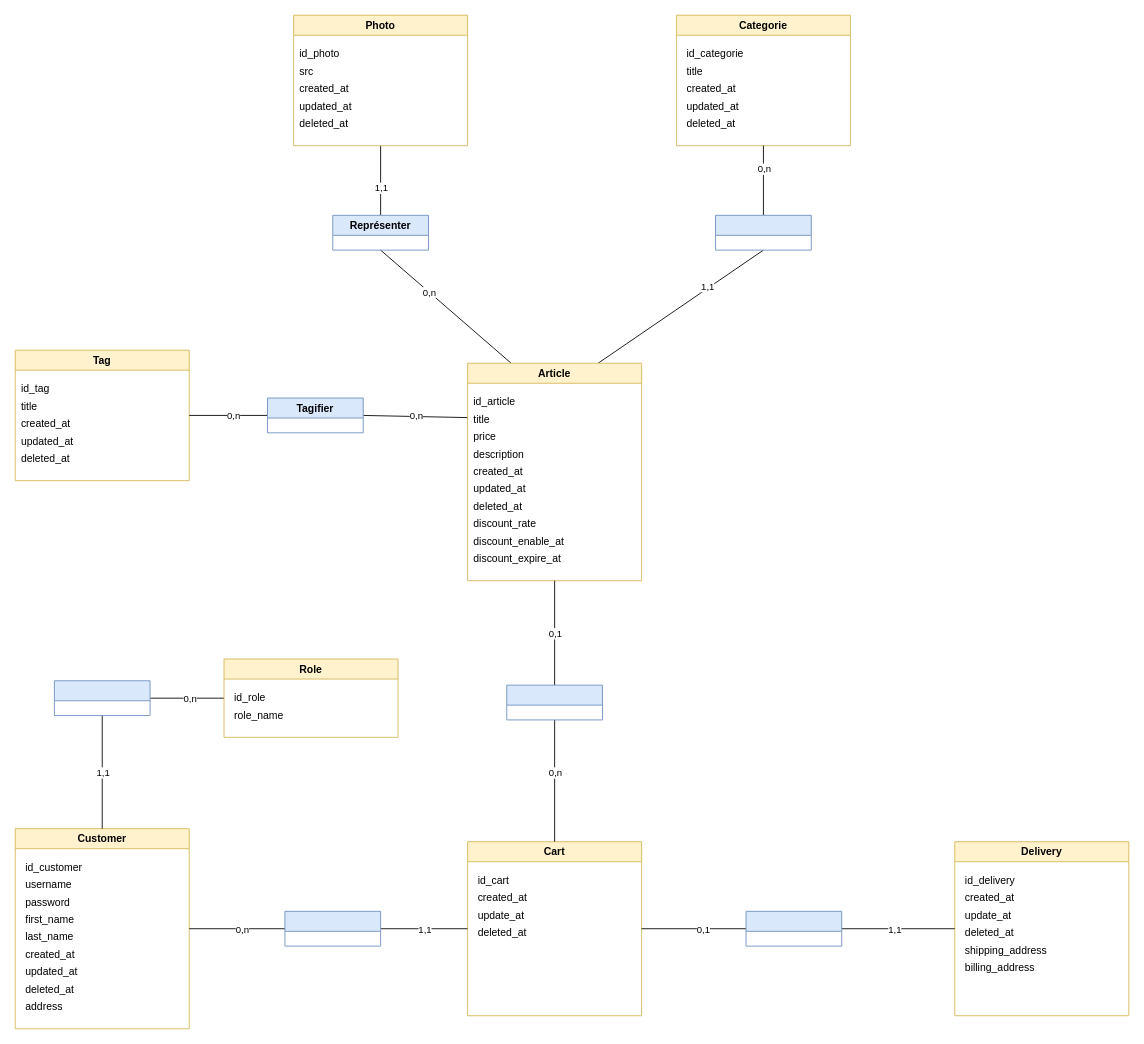
This 1144x1044 diagram has some shape labels left out. The centre of each missing label's shape, as x and y in pixels:
Assigner: the point at 102,698
Classer: the point at 763,232
Commander: the point at 793,928
Contenir: the point at 554,702
Posséder: the point at 332,928
